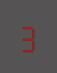three: (19, 20, 36, 52)
